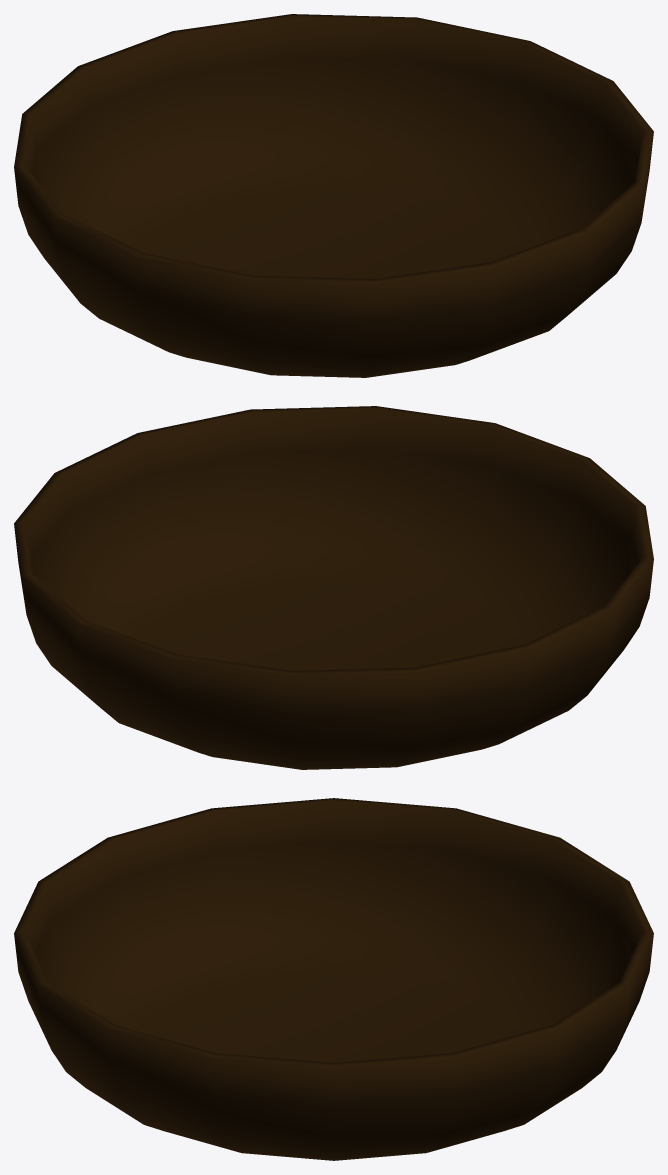
File: Ciotola.fbx
3 renders of one model, top to bottom at view 1: azimuth 30°, elevation 25°; view 2: azimuth 150°, elevation 25°; view 3: azimuth 270°, elevation 25°, orthographic.
Visible parts, largest first — view 1: Ciotola; view 2: Ciotola; view 3: Ciotola.
Part boxes in pixels (box(x1,y1,x2,y2)): Ciotola: box(14, 14, 653, 377); Ciotola: box(14, 406, 653, 769); Ciotola: box(14, 798, 653, 1160).
Bounding box in the file's own units: 60 × 14.1 × 60.
